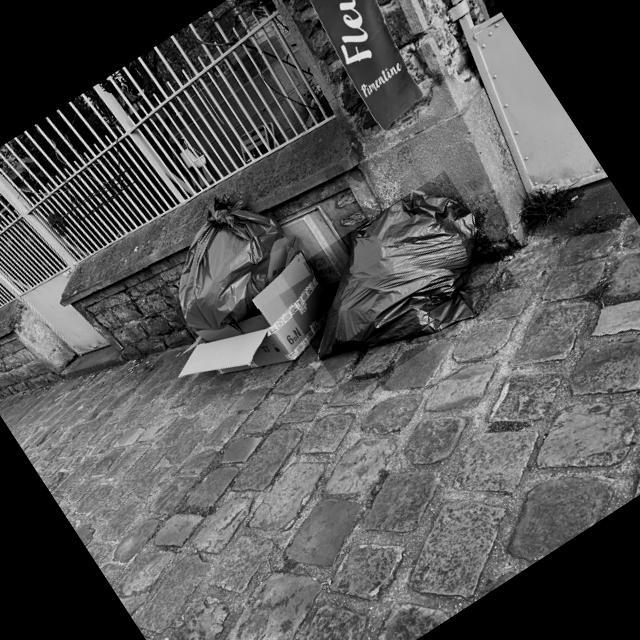Garbage bag: (320, 194, 477, 357), (179, 193, 283, 330)
